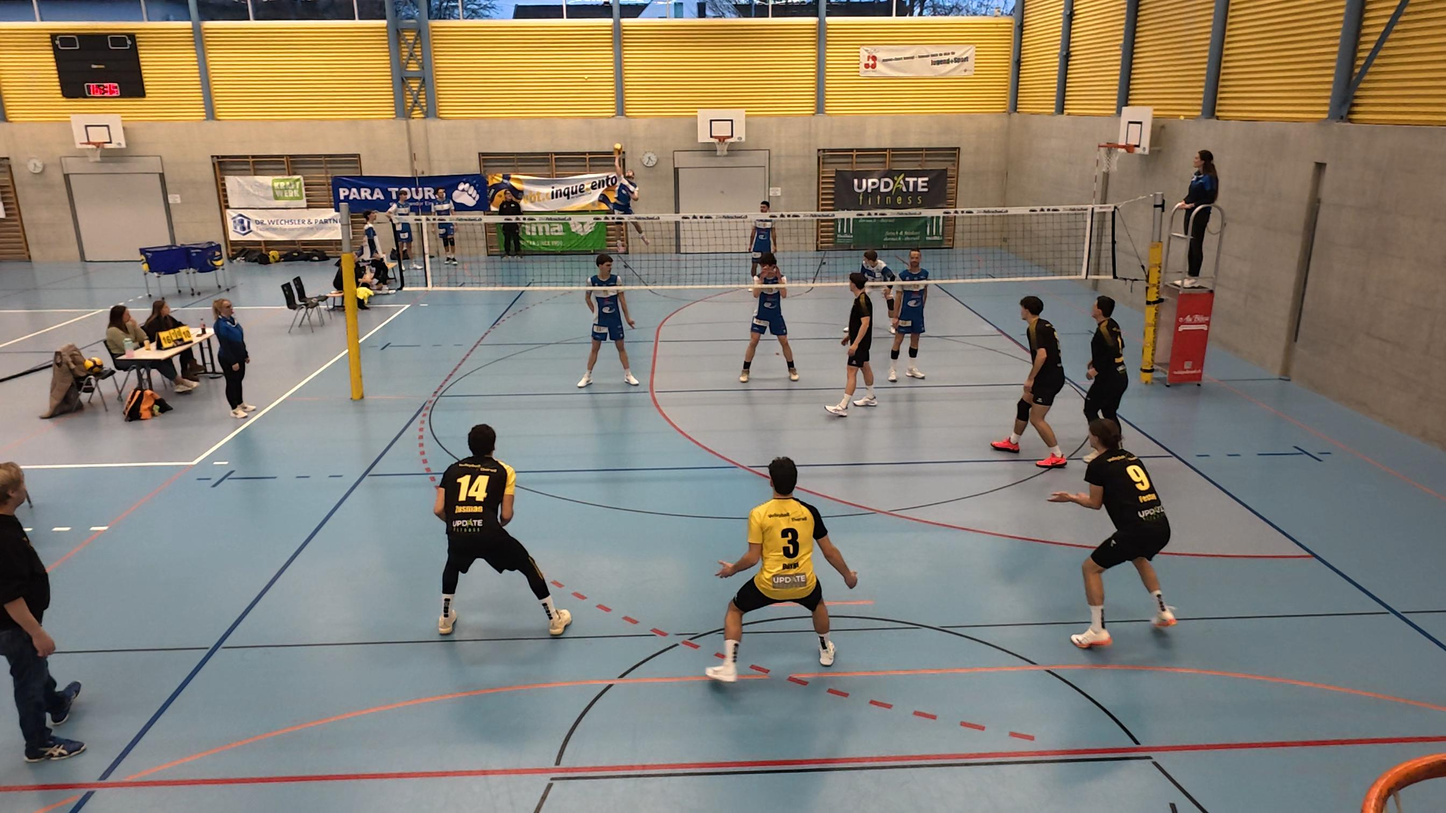Player: (706, 456, 858, 684), (1045, 413, 1177, 647), (435, 424, 570, 636), (988, 295, 1071, 468), (579, 254, 639, 389), (737, 255, 799, 385), (1076, 296, 1128, 446), (826, 272, 877, 418), (889, 250, 931, 381), (845, 247, 899, 333), (748, 197, 778, 275)
Serve: (605, 144, 652, 257)
ball: (609, 141, 625, 156)
